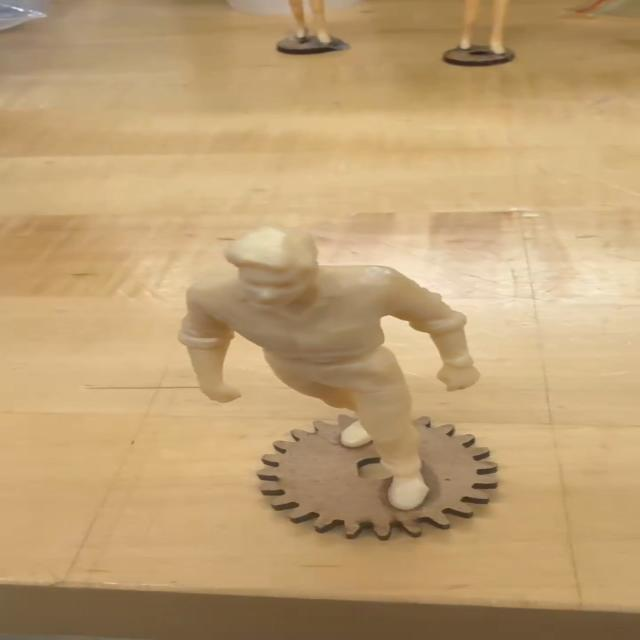Unauthorized: (162, 207, 505, 548)
